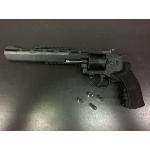Pistol: (2, 42, 146, 112)
